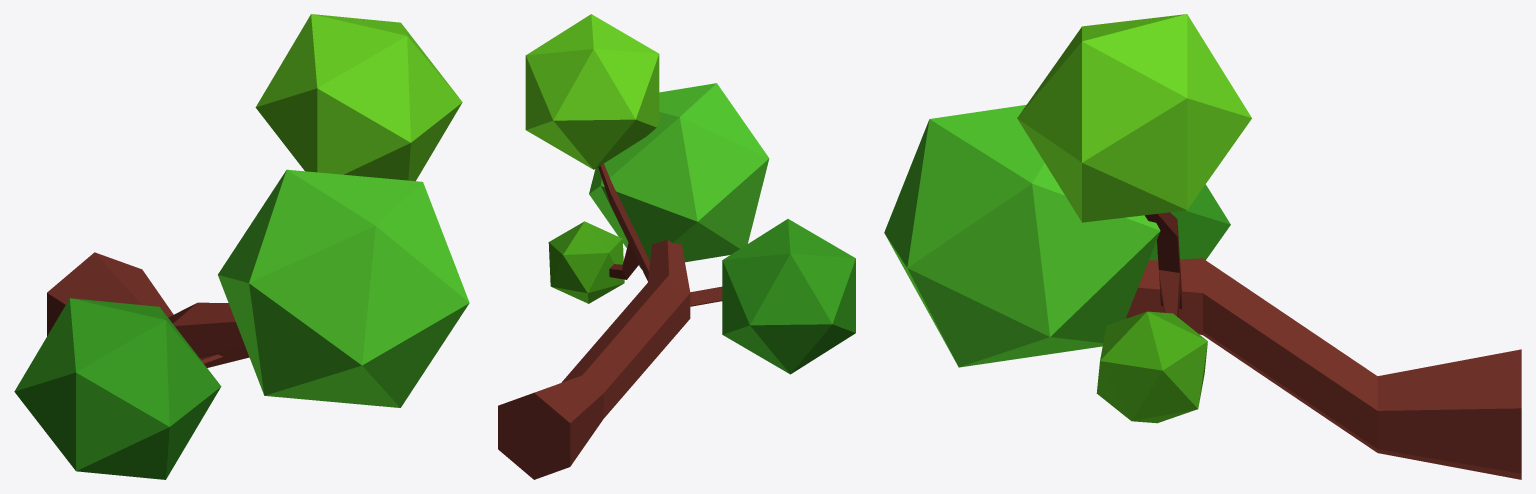
Rendered from tree2.glb.
The picture shows the model from 3 angles, left to right: view 1: azimuth 30°, elevation 25°; view 2: azimuth 150°, elevation 25°; view 3: azimuth 270°, elevation 25°; orthographic projection. The views are drawn at different scales.
Parts seen in each view (by area): view 1: Icosphere.001; view 2: Icosphere.001; view 3: Icosphere.001.
Part boxes in pixels (x1,y1,x2,y2): Icosphere.001: [14, 14, 469, 479]; Icosphere.001: [498, 14, 855, 479]; Icosphere.001: [884, 14, 1521, 479].
Size of the model in its own units: 7.46 by 7.71 by 8.84.
